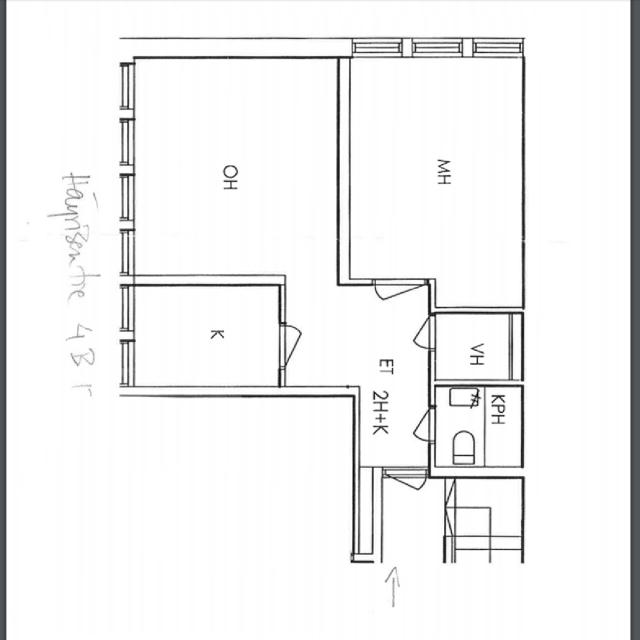door: (376, 278, 424, 331), (278, 326, 328, 366), (385, 467, 425, 515), (394, 408, 436, 441), (394, 317, 436, 348)
